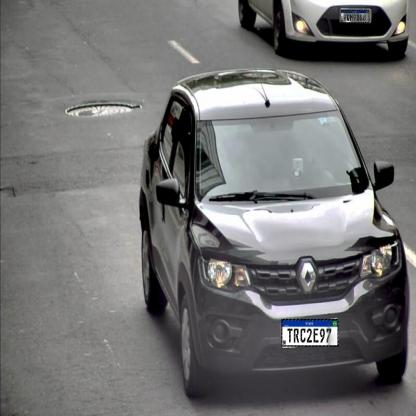PlacaM: (282, 319, 338, 347), (341, 10, 369, 23)
